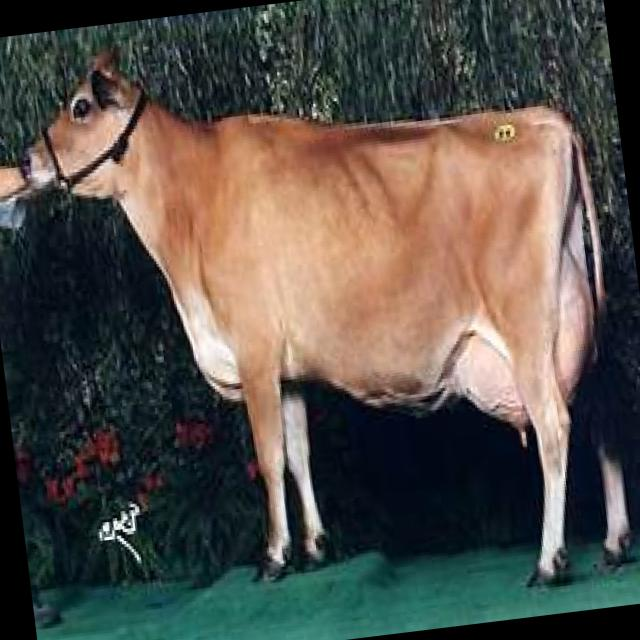animal: (10, 0, 638, 633)
